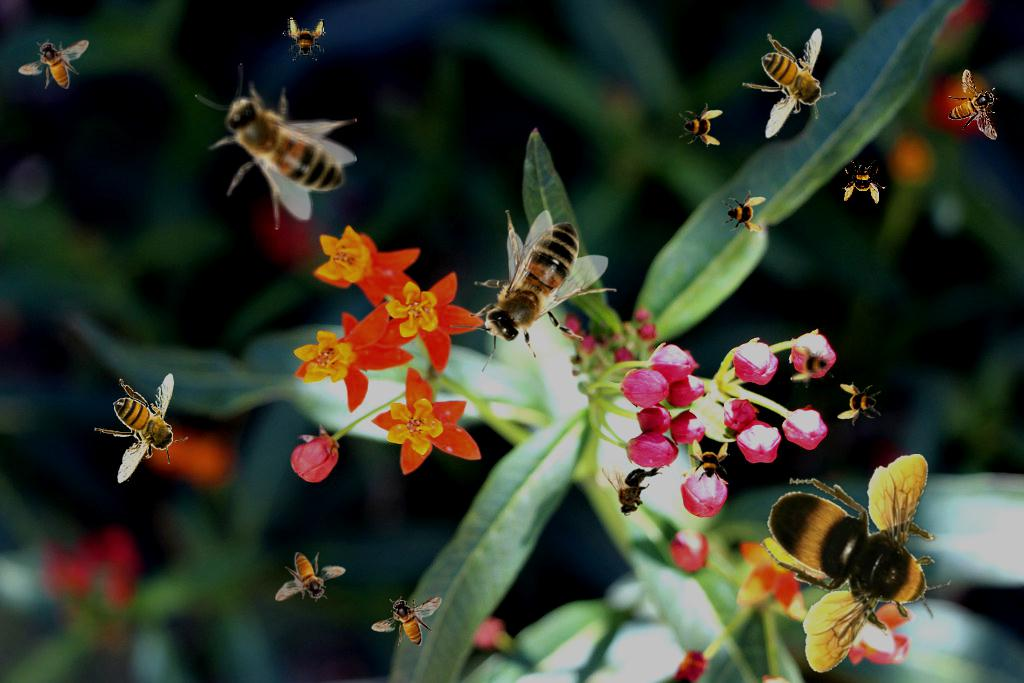Bee: (760, 454, 951, 674), (195, 63, 357, 230), (450, 210, 617, 372), (94, 373, 188, 484), (742, 28, 836, 139), (275, 552, 346, 602), (18, 39, 89, 89), (948, 69, 998, 140), (371, 596, 442, 646), (602, 463, 664, 516), (686, 439, 730, 483), (837, 382, 881, 426), (282, 17, 326, 61), (679, 103, 723, 147), (790, 344, 834, 388), (842, 160, 886, 204), (722, 190, 766, 234)
